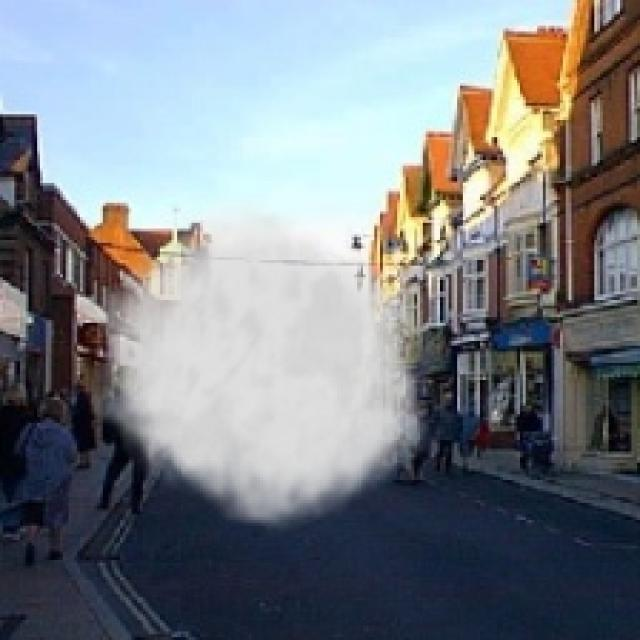Smoke: (91, 194, 440, 537)
